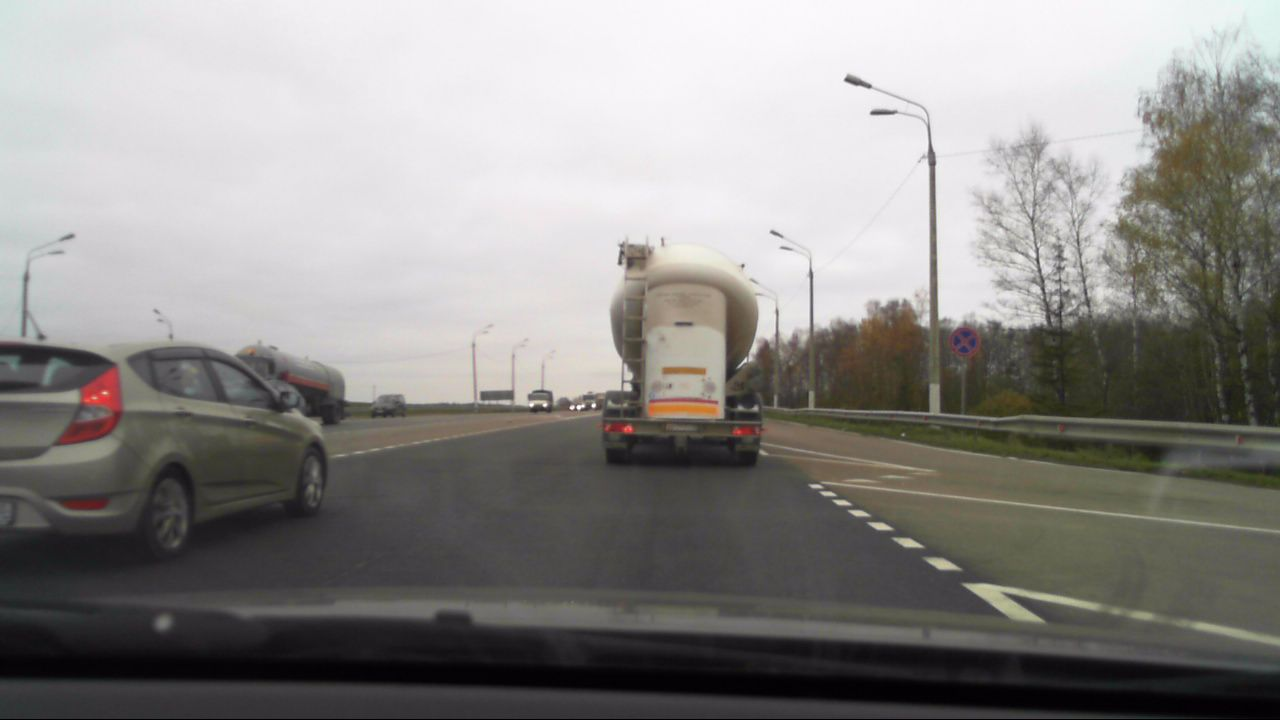No Parking: (943, 323, 982, 358)
